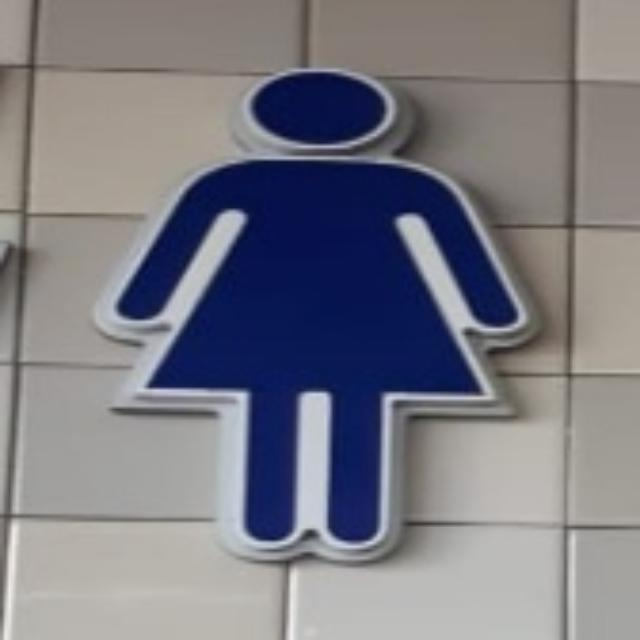wc nu: (95, 69, 530, 556)
